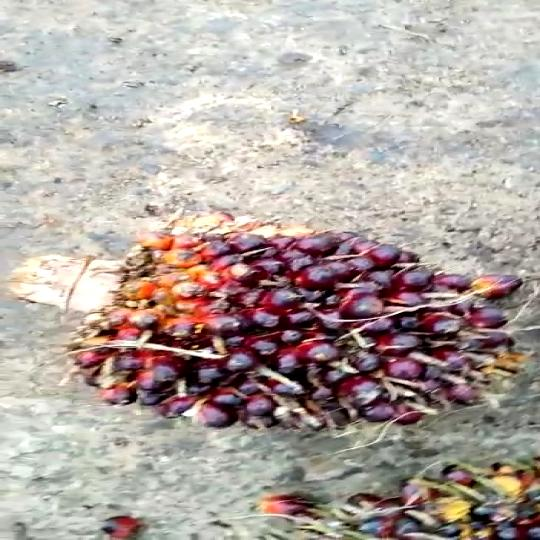kurang masak: (43, 224, 540, 434)
